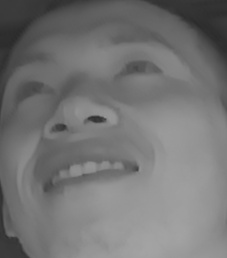eye: (115, 52, 164, 85), (9, 76, 55, 109)
mouth: (35, 149, 146, 201)
